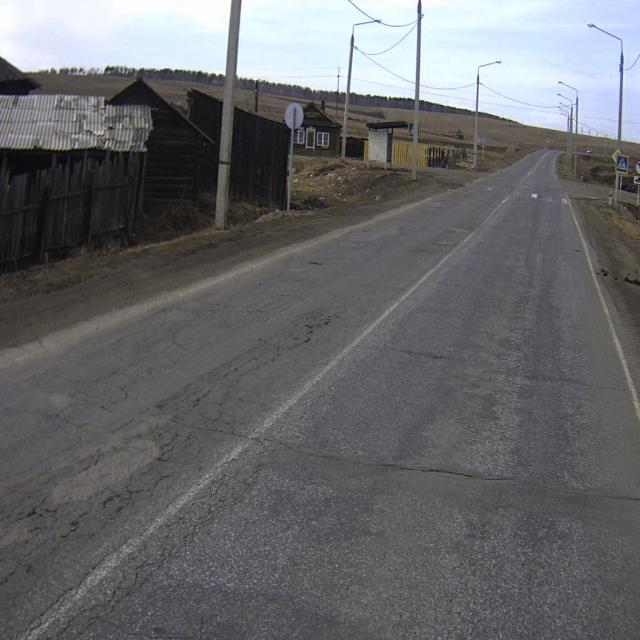road: (0, 149, 640, 639)
